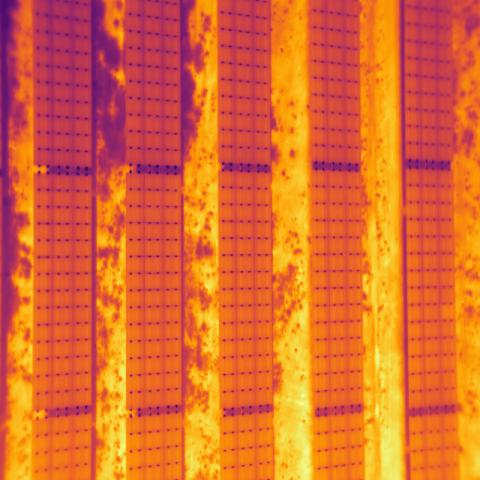fault: (439, 304, 455, 321)
